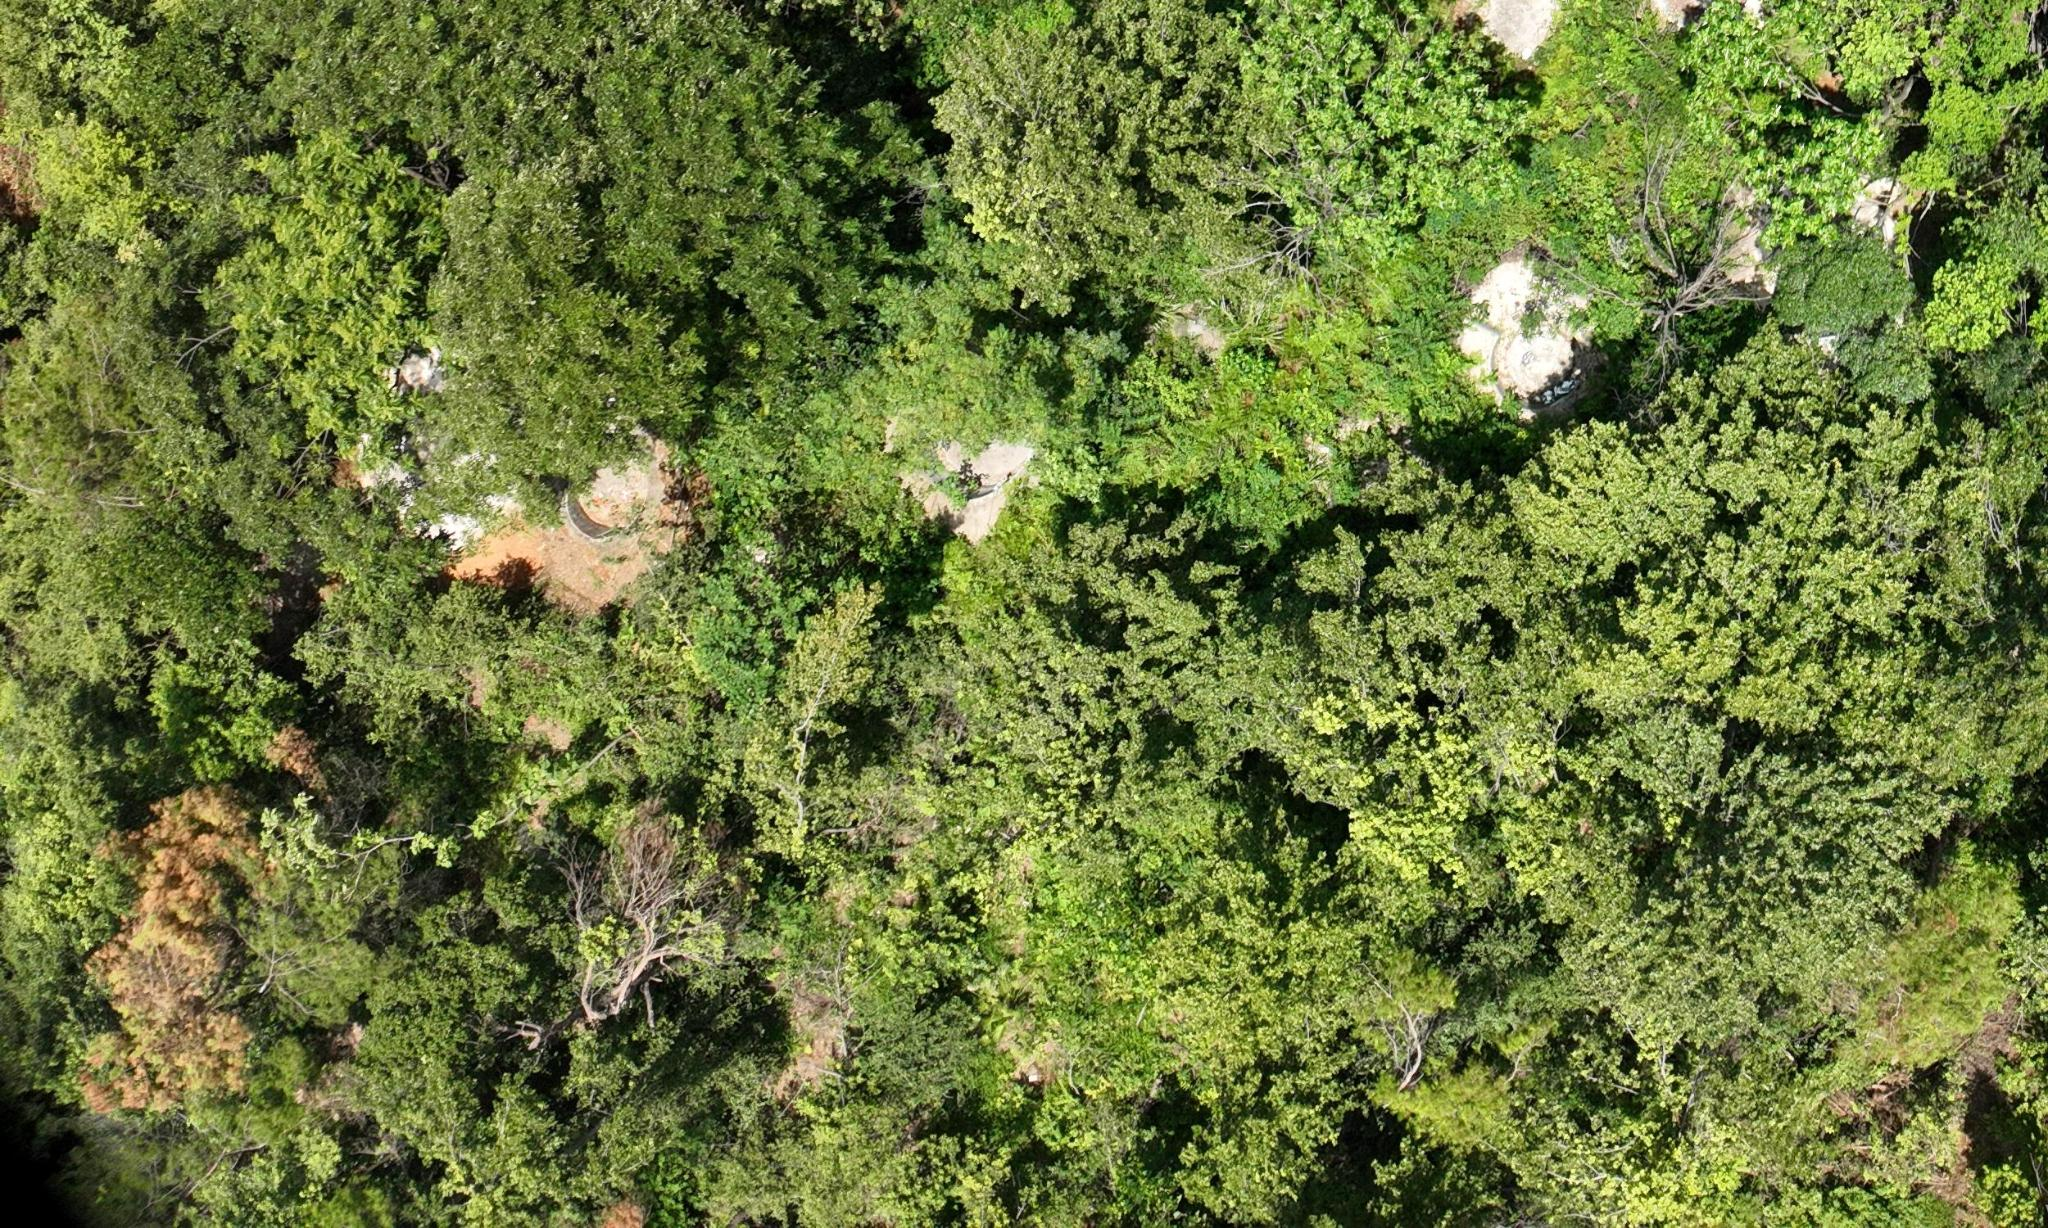heavy: (71, 767, 261, 1129)
